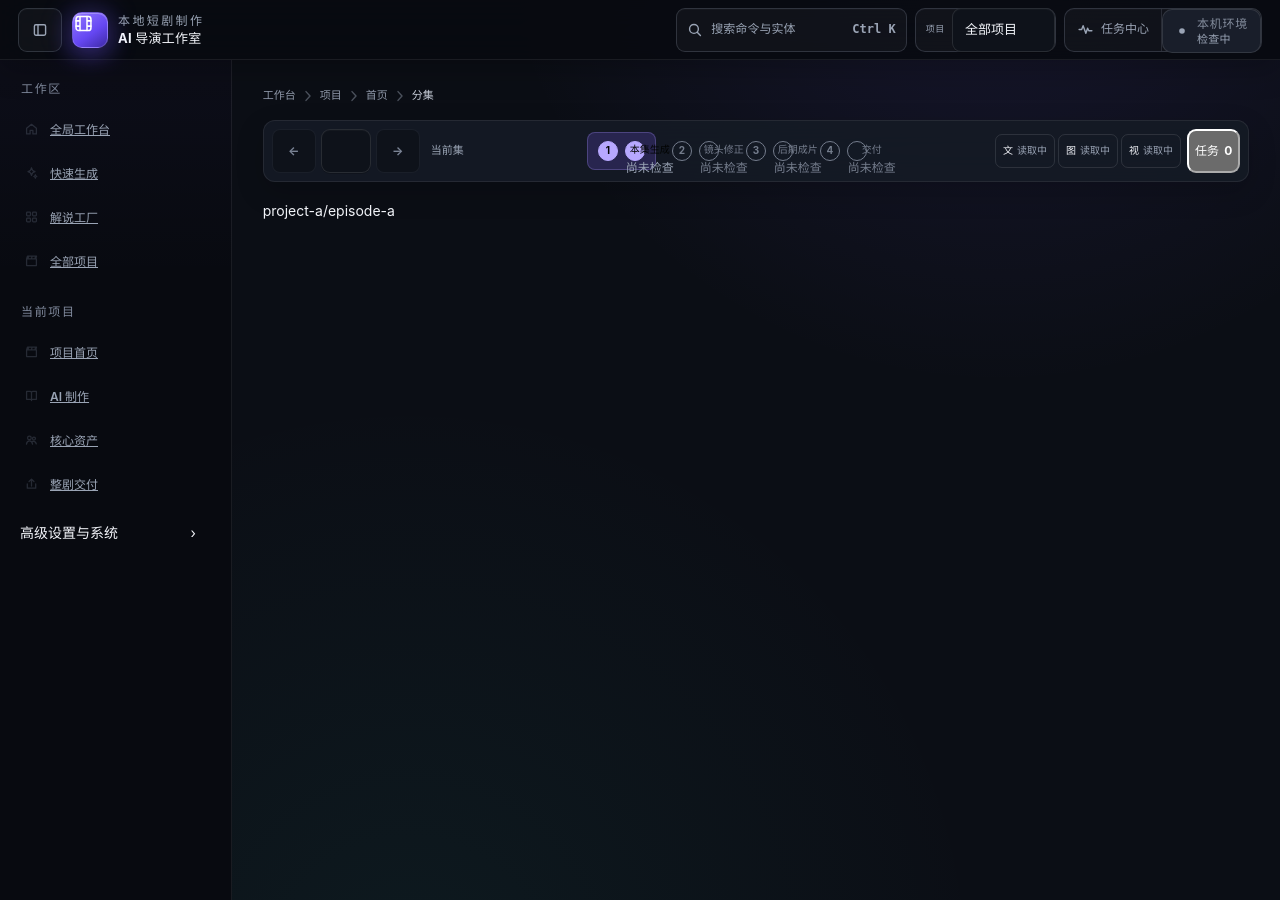
Test: V2 router foundation › replaces episode content when switching to project assets (project-a)
Click the link "核心资产".
click(60, 440)  # box [23,432,98,448]
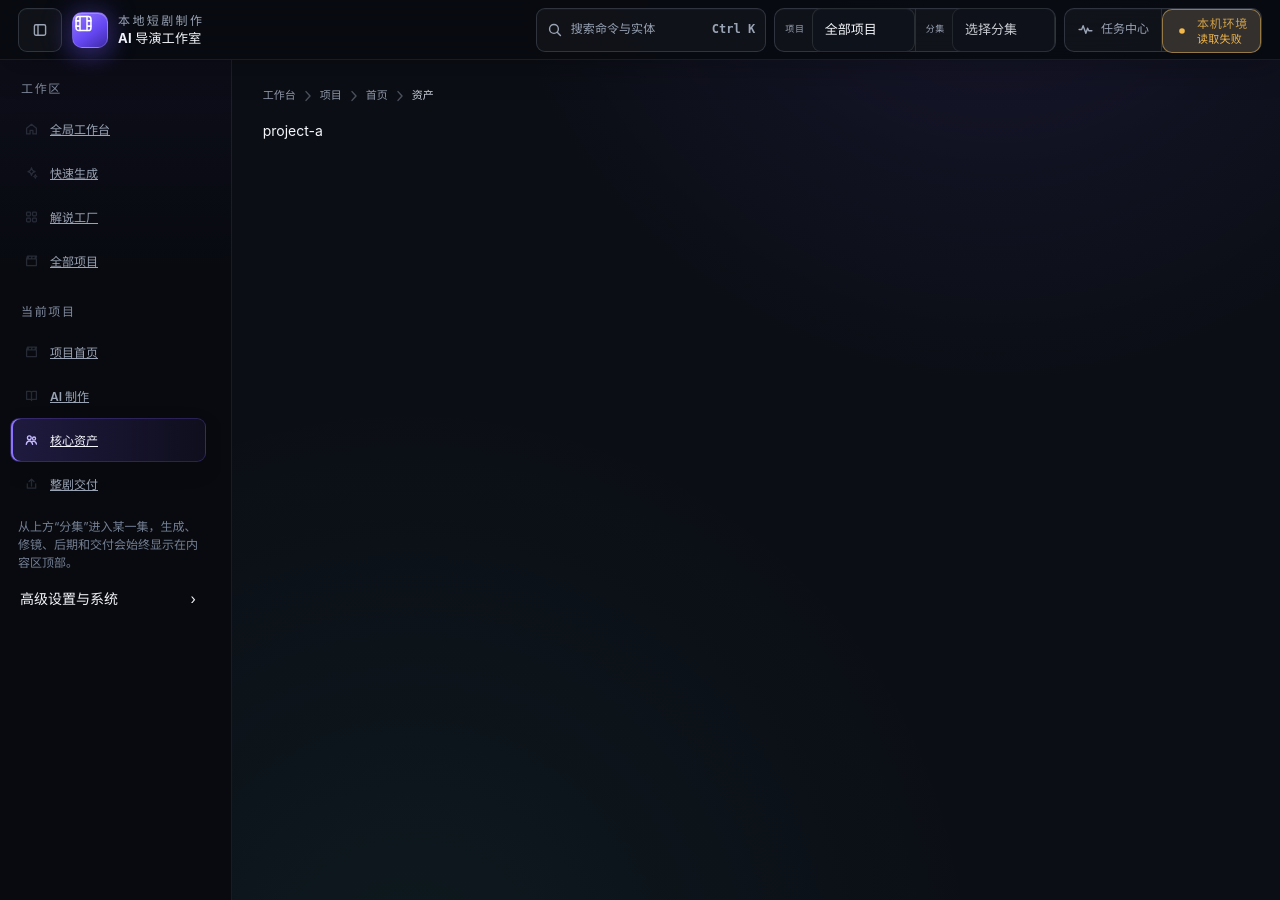
expect the text named "核心资产页" reads "project-a": met, box [263,122,323,139]
expect the element "当前分集与制作阶段" is gone: met
